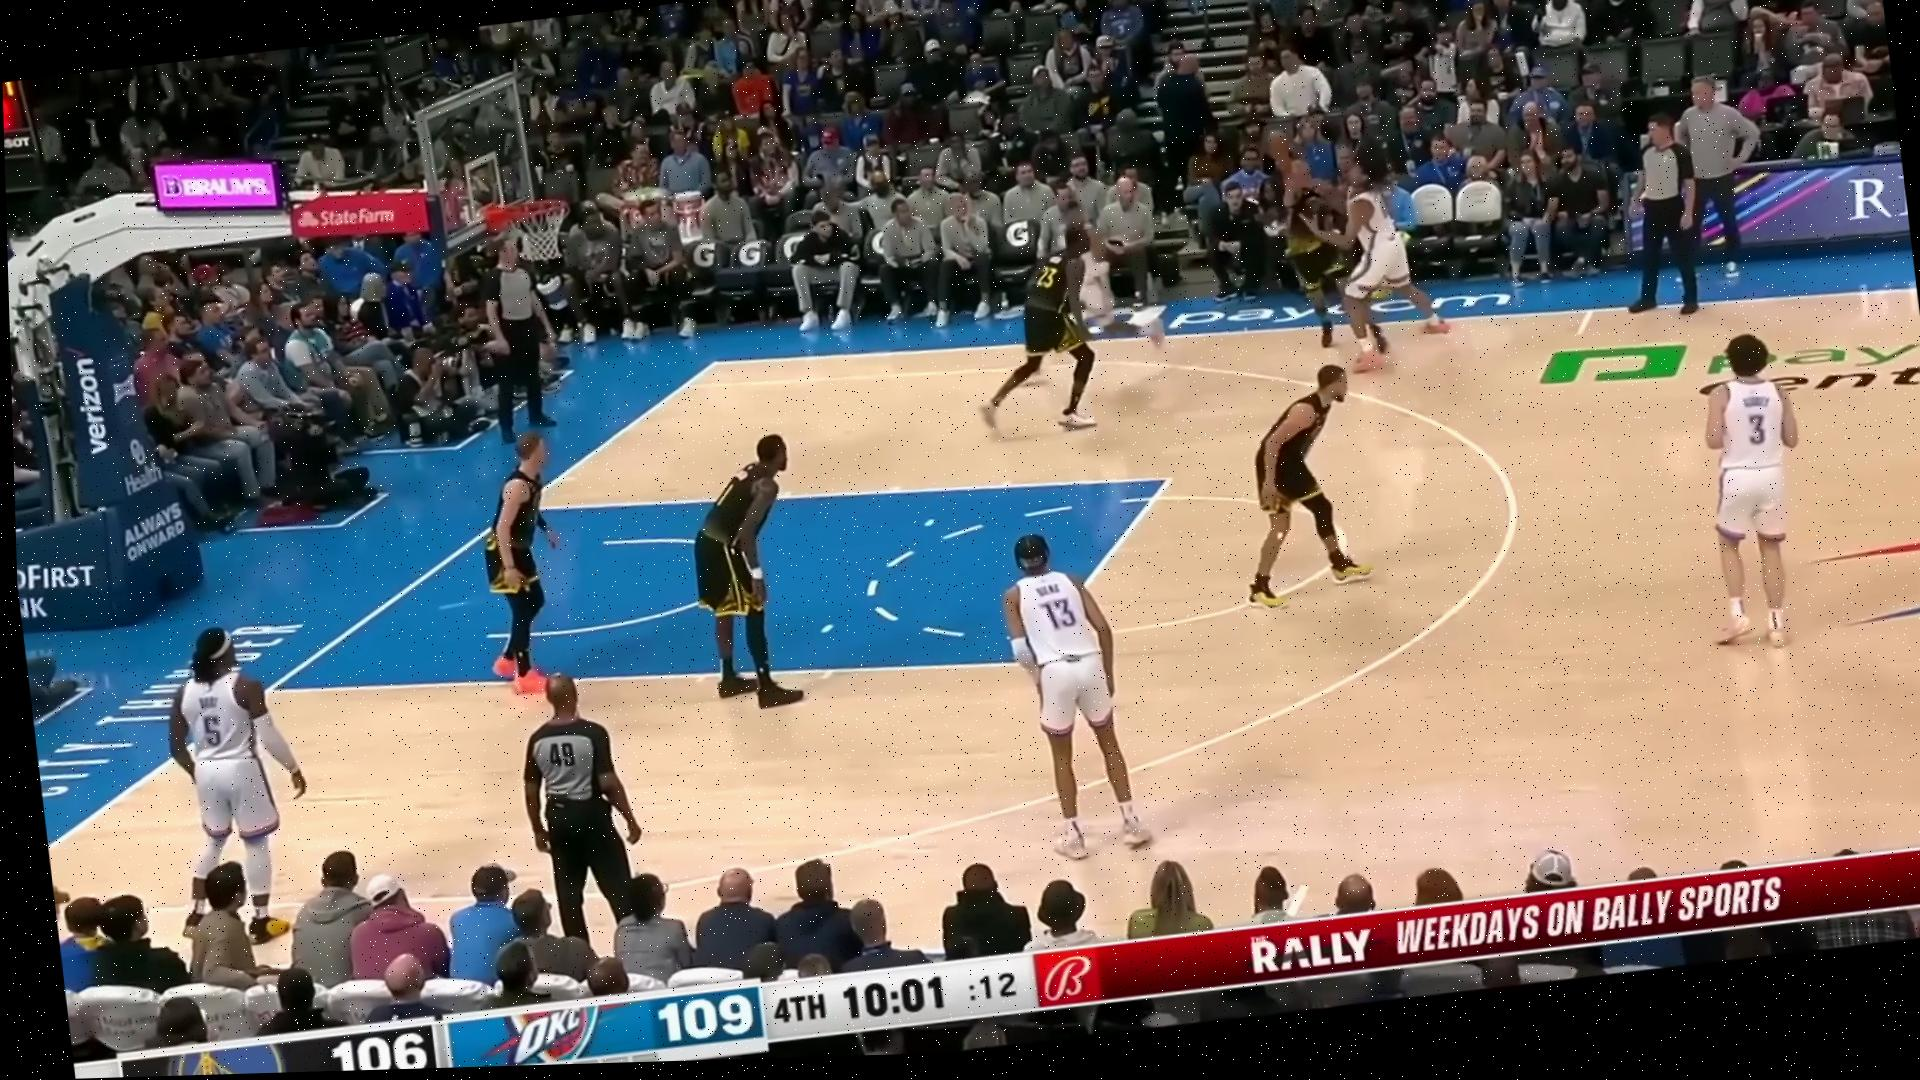foul: (1270, 137, 1460, 385)
